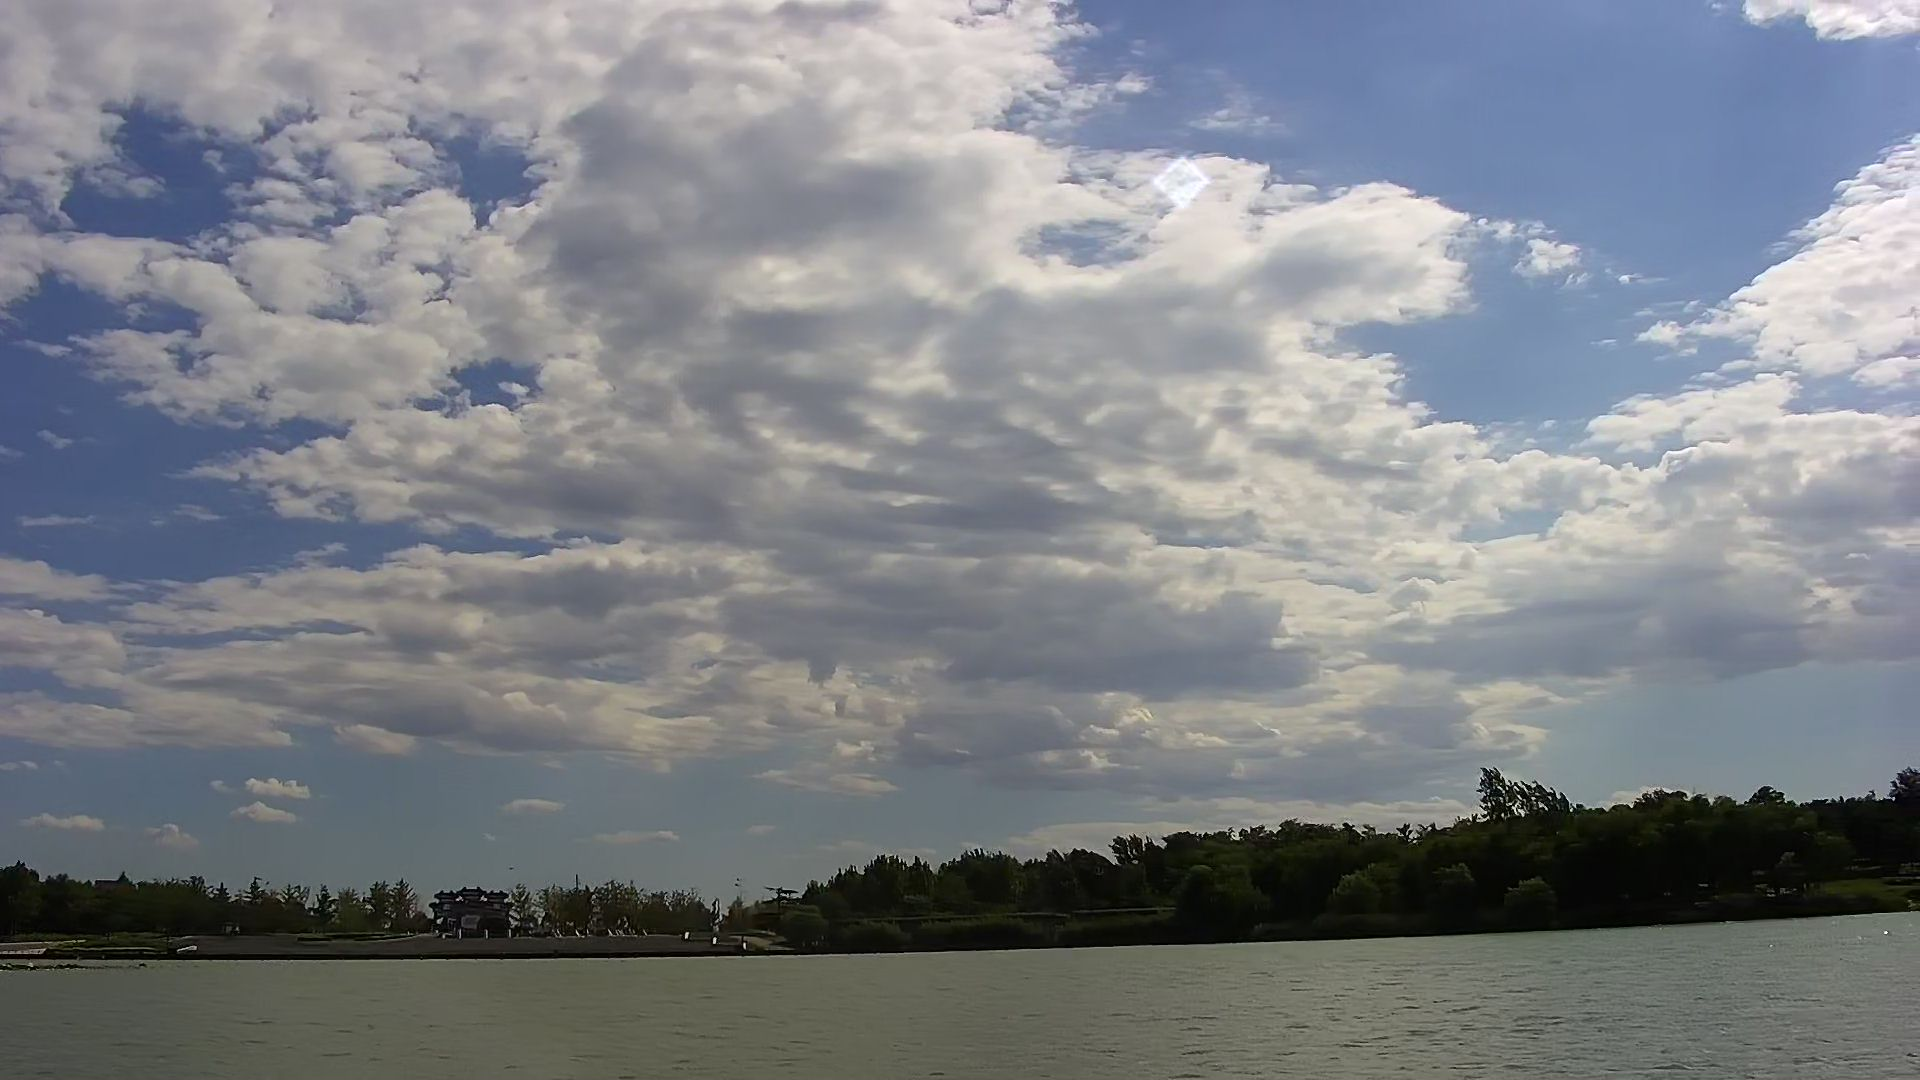harbor: (166, 924, 812, 965)
